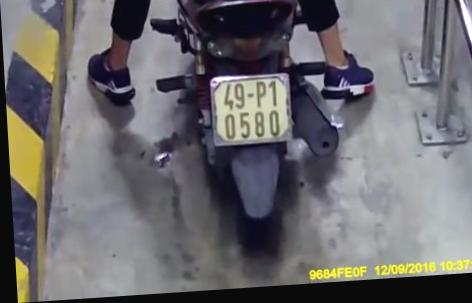License_Plate: (208, 67, 299, 158)
